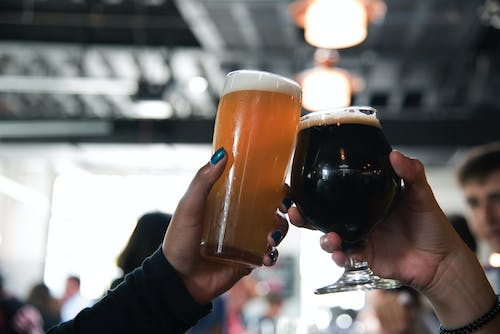alcohol: (291, 106, 403, 297), (197, 69, 303, 269)
